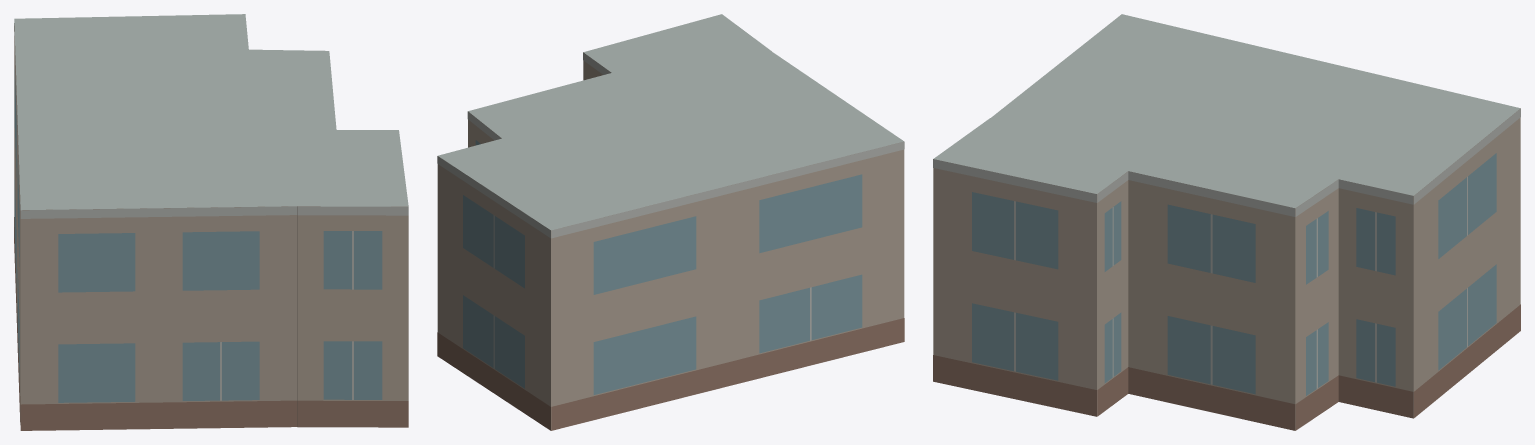
The model's file is survey-upis-33021309.glb.
3 renders of one model, left to right at view 1: azimuth 30°, elevation 25°; view 2: azimuth 150°, elevation 25°; view 3: azimuth 270°, elevation 25°, orthographic. The views are drawn at different scales.
Visible parts, largest first — view 1: survey-upis-33021309.tmp; view 2: survey-upis-33021309.tmp; view 3: survey-upis-33021309.tmp.
Boxes of the visible parts, <box> form: survey-upis-33021309.tmp: <box>14,14,408,430</box>; survey-upis-33021309.tmp: <box>437,14,904,430</box>; survey-upis-33021309.tmp: <box>933,14,1520,430</box>.
Bounding box in the file's own units: 11.43 × 6.1 × 14.6.
